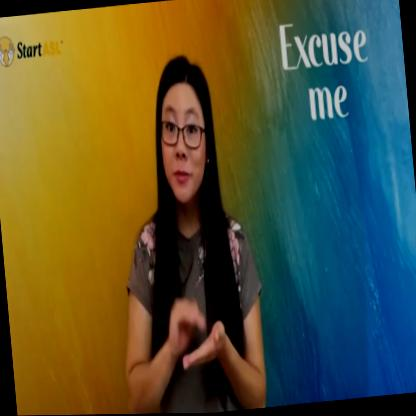ExcuseMe: (140, 272, 240, 388)
